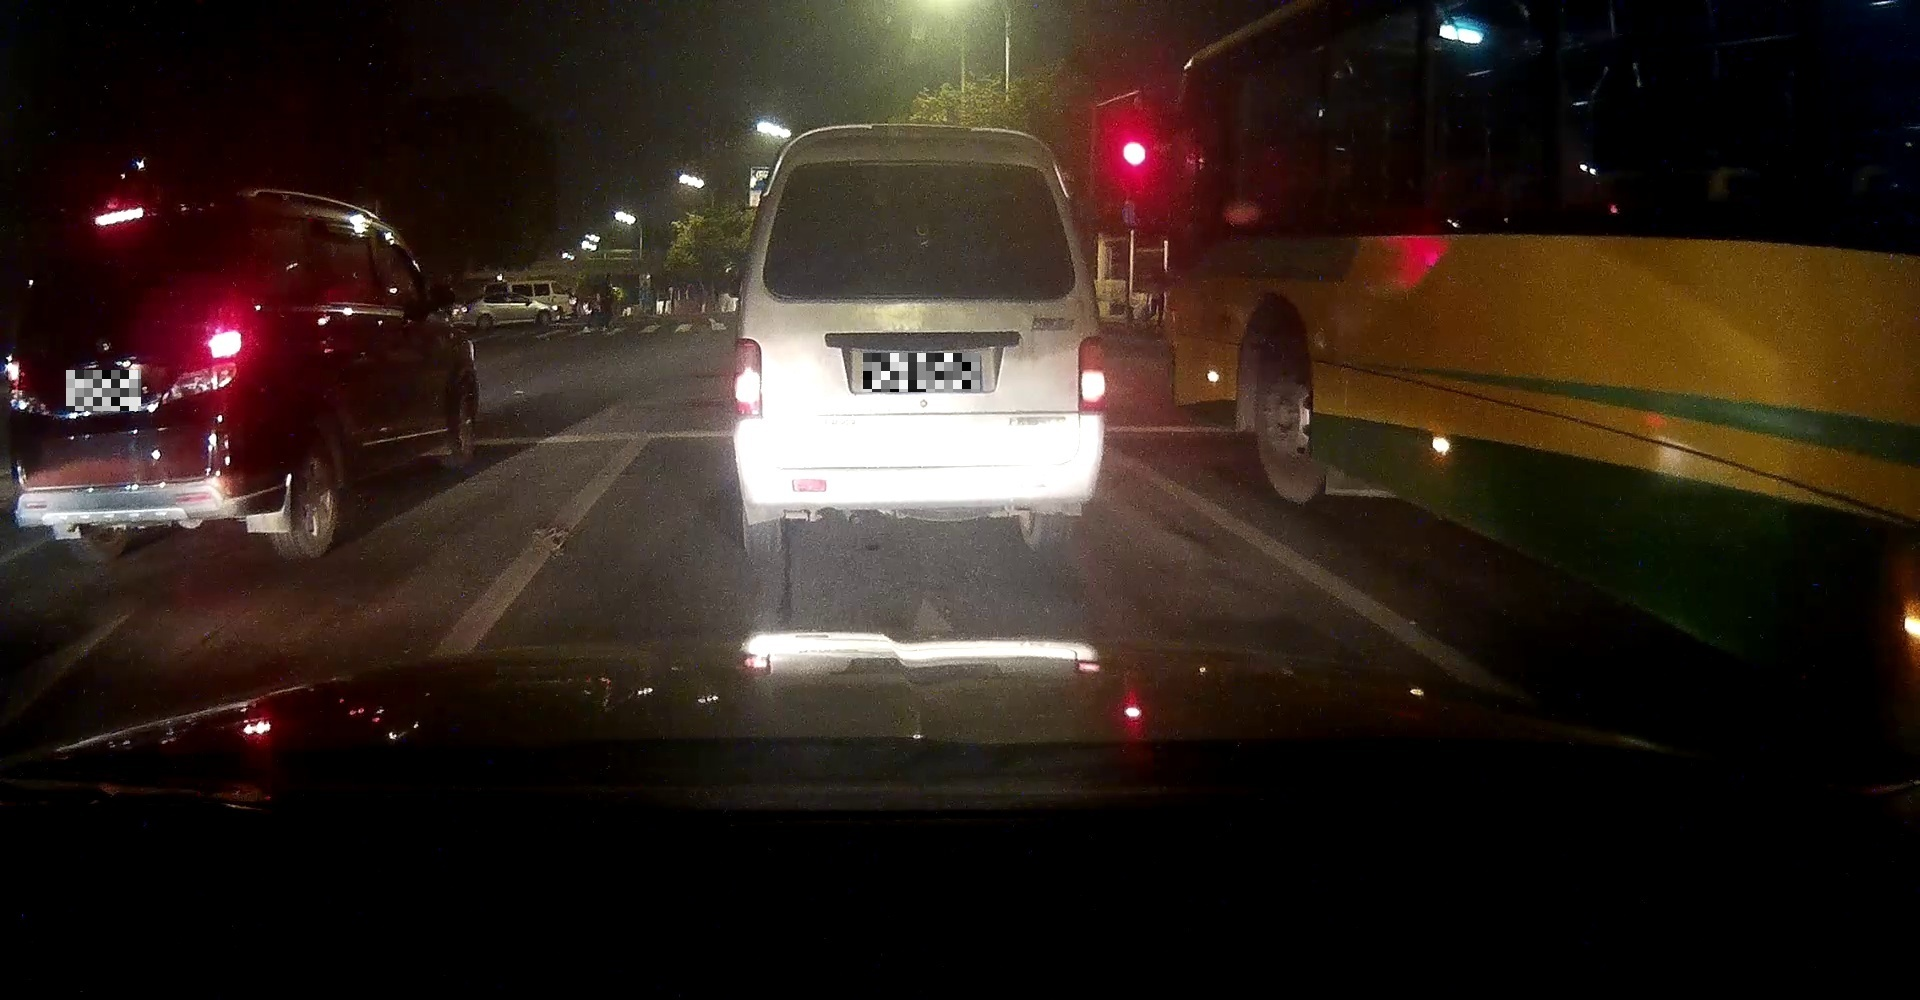L_light: (729, 338, 762, 415), (4, 353, 32, 390)
R_light: (196, 319, 255, 360), (1077, 338, 1106, 412)
T_light: (93, 206, 145, 226), (897, 160, 950, 170)
night-brake: (3, 197, 272, 558)
night-no: (729, 123, 1109, 556)
plate_1: (66, 371, 141, 411)
plate_2: (863, 353, 980, 392)
